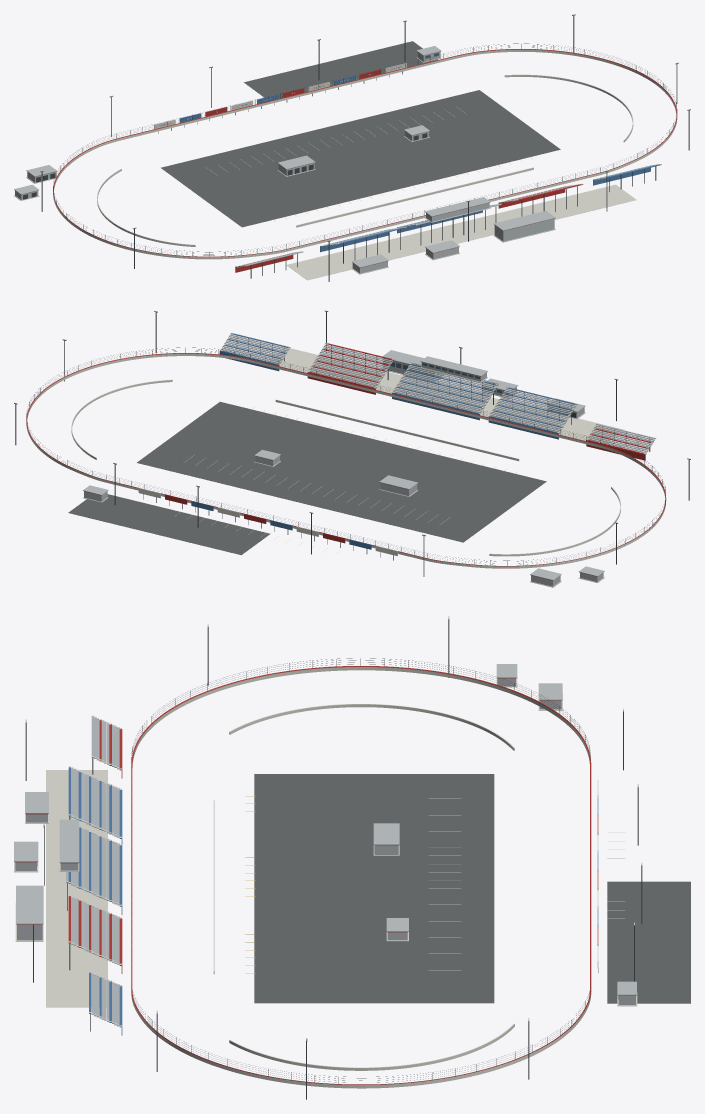
Rendered from SouthBostonSpeedway.fbx.
The picture shows the model from 3 angles, top to bottom: view 1: azimuth 30°, elevation 25°; view 2: azimuth 150°, elevation 25°; view 3: azimuth 270°, elevation 25°; orthographic projection. The views are drawn at different scales.
Parts seen in each view (by area): view 1: Infield service paddock, Front fan concourse, Backstretch service lane, Backstretch paddock and registration apron, Outer retaining wall, Red wall cap, Frontstretch track-side pit wall, Frontstretch suite building siding, Frontstretch suite building roof, Bill Dyer Press Box roof, Inside turn wall; view 2: Infield service paddock, Backstretch paddock and registration apron, Front fan concourse, Backstretch service lane, Outer retaining wall, Red wall cap, Frontstretch track-side pit wall, Bill Dyer Press Box roof, Inside turn wall.001; view 3: Infield service paddock, Backstretch paddock and registration apron, Front fan concourse, Backstretch service lane, Outer retaining wall, Red wall cap, Inside turn wall.001, Inside turn wall, Frontstretch suite building roof, Bill Dyer Press Box roof.
Part boxes in pixels (bbox=[...]): Infield service paddock: bbox=[172, 98, 560, 227]; Front fan concourse: bbox=[286, 184, 636, 280]; Backstretch service lane: bbox=[161, 90, 490, 177]; Backstretch paddock and registration apron: bbox=[244, 41, 437, 98]; Outer retaining wall: bbox=[53, 49, 677, 259]; Red wall cap: bbox=[53, 49, 677, 256]; Frontstretch track-side pit wall: bbox=[296, 167, 533, 227]; Frontstretch suite building siding: bbox=[494, 218, 554, 241]; Frontstretch suite building roof: bbox=[494, 210, 555, 230]; Bill Dyer Press Box roof: bbox=[425, 197, 490, 216]; Inside turn wall: bbox=[504, 74, 633, 142]; Infield service paddock: bbox=[149, 401, 546, 533]; Backstretch paddock and registration apron: bbox=[68, 494, 270, 555]; Front fan concourse: bbox=[268, 347, 624, 443]; Backstretch service lane: bbox=[137, 454, 475, 542]; Outer retaining wall: bbox=[26, 353, 666, 568]; Red wall cap: bbox=[26, 353, 666, 566]; Frontstretch track-side pit wall: bbox=[275, 399, 519, 461]; Bill Dyer Press Box roof: bbox=[420, 356, 487, 376]; Inside turn wall.001: bbox=[489, 487, 620, 556]; Infield service paddock: bbox=[254, 774, 460, 1003]; Backstretch paddock and registration apron: bbox=[607, 881, 690, 1003]; Front fan concourse: bbox=[46, 770, 107, 1007]; Backstretch service lane: bbox=[460, 774, 494, 1003]; Outer retaining wall: bbox=[131, 667, 591, 1088]; Red wall cap: bbox=[131, 666, 591, 1084]; Inside turn wall.001: bbox=[229, 704, 514, 750]; Inside turn wall: bbox=[229, 1023, 514, 1070]; Frontstretch suite building roof: bbox=[16, 885, 43, 924]; Bill Dyer Press Box roof: bbox=[59, 819, 79, 862].
Bounding box in the file's own units: 27711 × 1833 × 18582.
